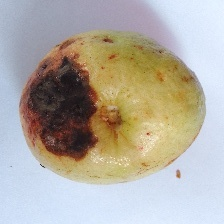guava: (2, 36, 197, 179)
